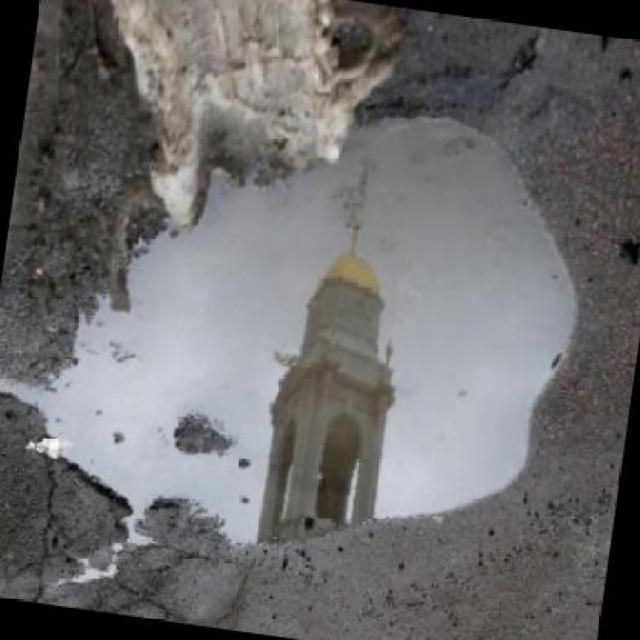pothole: (2, 62, 604, 603)
